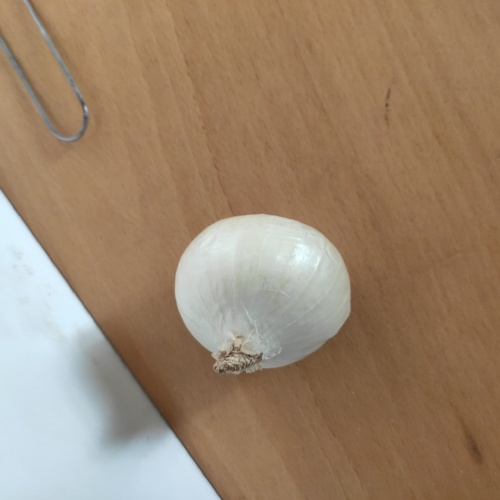cipolla: (167, 207, 360, 382)
